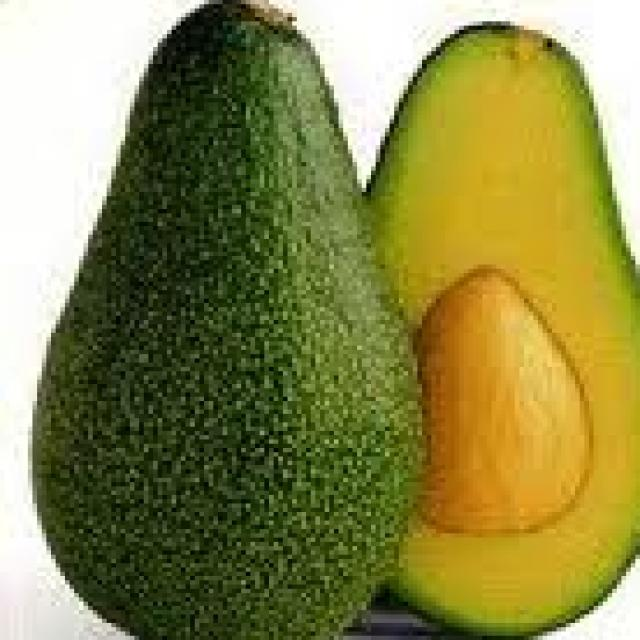avocado: (18, 0, 640, 640)
